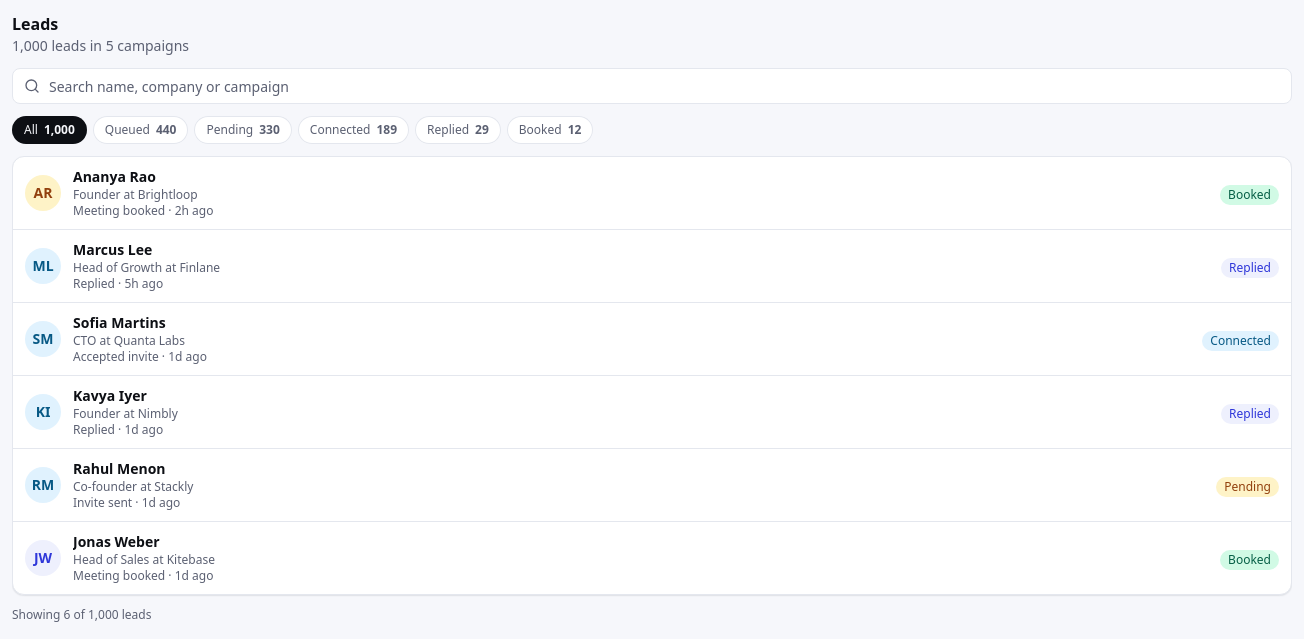
Test: LeadsPanel › filters by status and says how many leads are shown
This screenshot has width=1304, height=639.
Click the radio button labelled "Pending 330". click: (243, 130)
box: [194,116,292,144]
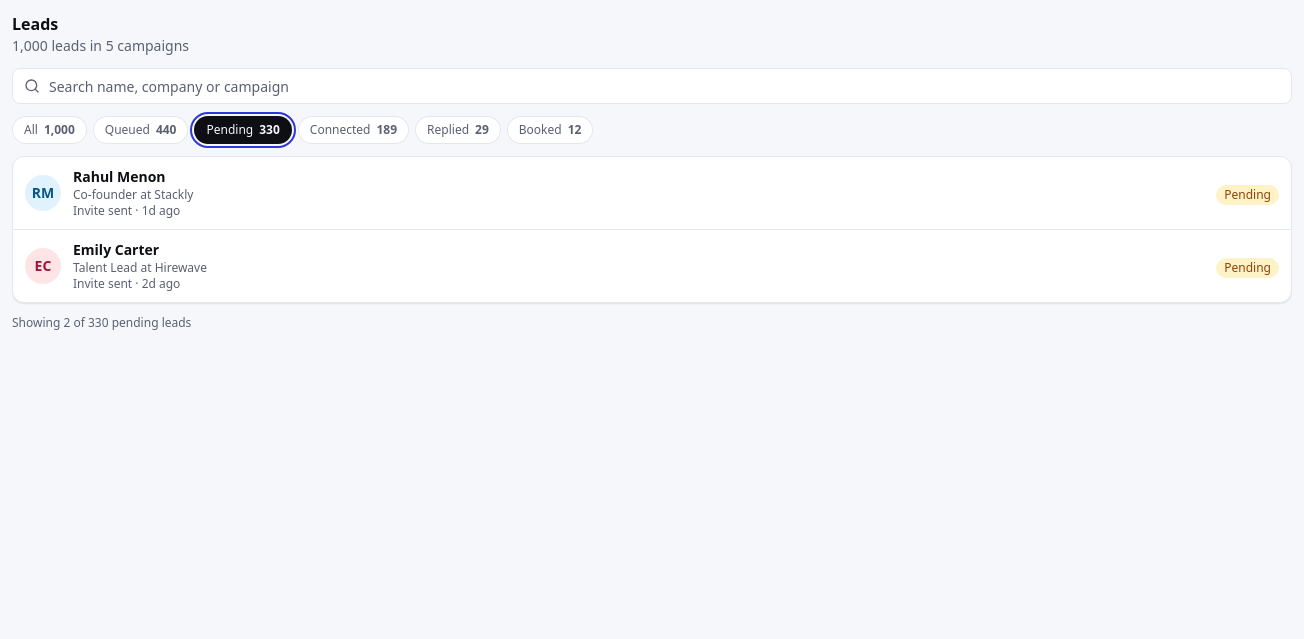
Expected: the number of list items is 2, [13,157,1291,230]; [13,230,1291,302]
Expected: the message reads "Showing 2 of 330 pending leads", [12,314,191,331]
